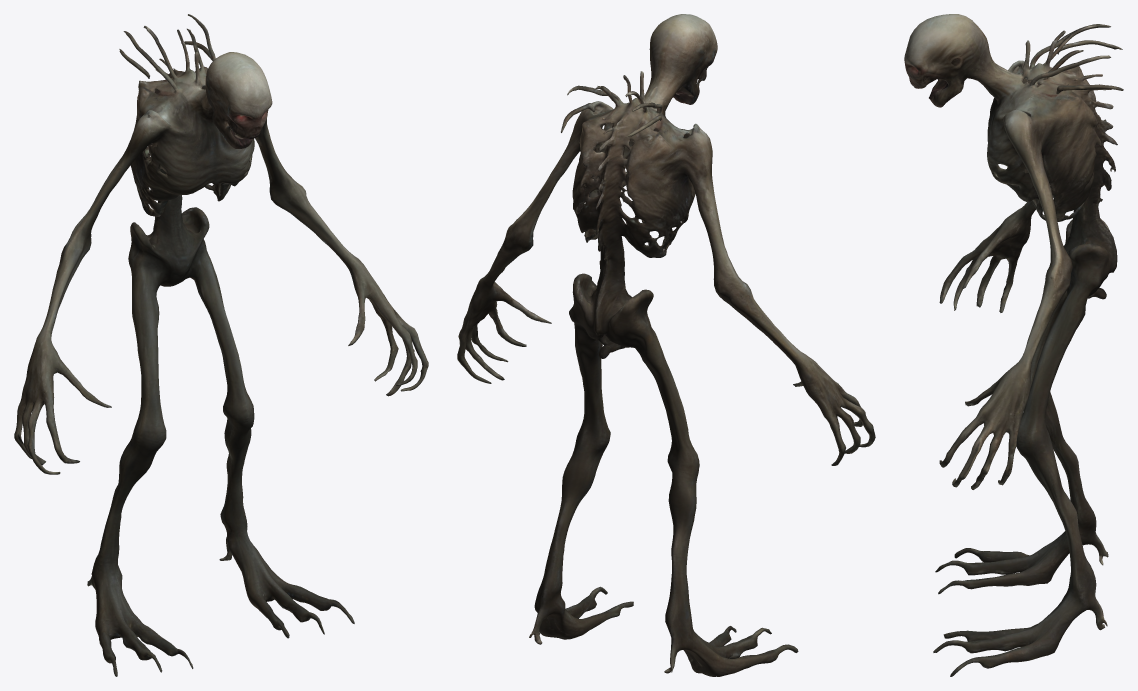
The model's file is skeletonmonster3dmodel.glb.
3 views of the same model, side by side, from view 1: azimuth 30°, elevation 25°; view 2: azimuth 150°, elevation 25°; view 3: azimuth 270°, elevation 25° (orthographic).
Bounding box in the file's own units: 1.4 × 2.01 × 0.6628.
1 material, 1 textured.
